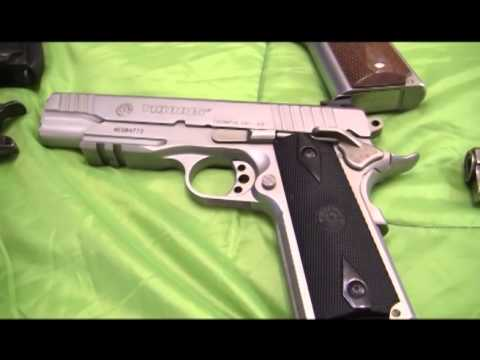Arma Real: (35, 88, 417, 317)
